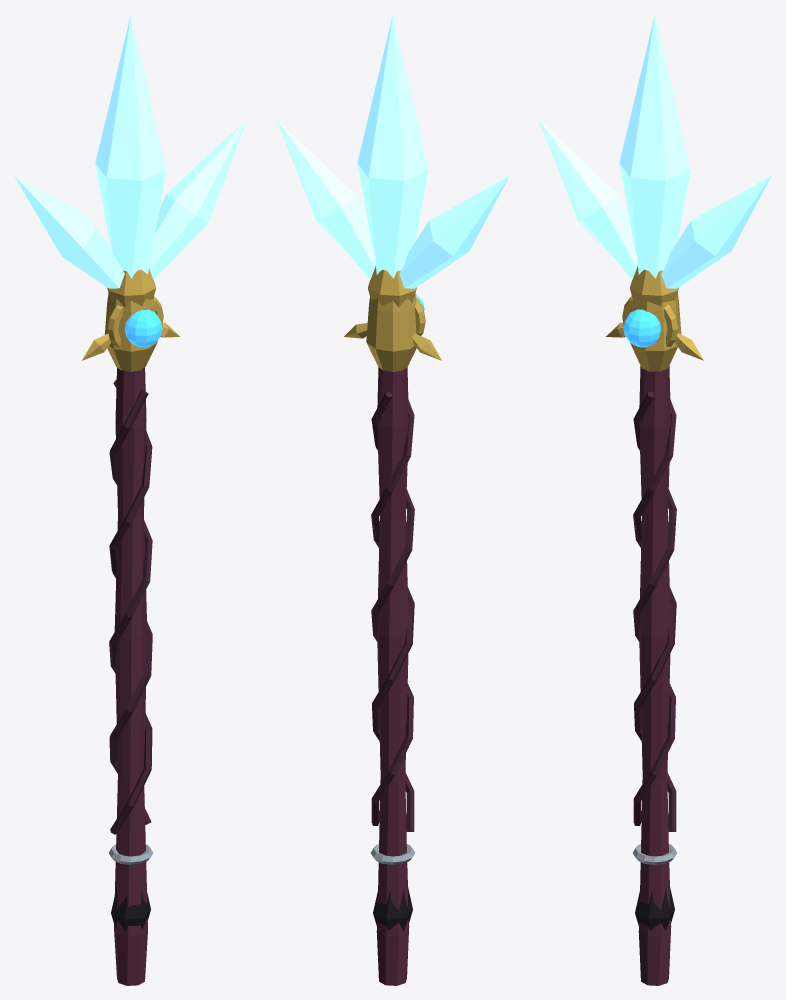
File: staff_royalcrystal.glb
3 views of the same model, side by side, from view 1: azimuth 30°, elevation 25°; view 2: azimuth 150°, elevation 25°; view 3: azimuth 330°, elevation 25° (orthographic).
Visible parts, largest first — view 1: Rc_Shaft, Rc_Crystal0, Rc_Crystal1, Rc_Crystal2, Rc_Vine1, Rc_Vine0, Rc_Neck, Rc_Seat, Rc_Gem, Rc_Tip, Rc_Collar; view 2: Rc_Shaft, Rc_Crystal0, Rc_Crystal1, Rc_Crystal2, Rc_Neck, Rc_Vine1, Rc_Vine0, Rc_Seat, Rc_Tip; view 3: Rc_Shaft, Rc_Crystal0, Rc_Crystal2, Rc_Crystal1, Rc_Vine0, Rc_Vine1, Rc_Neck, Rc_Seat, Rc_Gem, Rc_Tip, Rc_Collar.
Boxes of the visible parts, <box> form: Rc_Shaft: <box>114,367,147,985</box>; Rc_Crystal0: <box>95,15,166,278</box>; Rc_Crystal1: <box>149,119,247,279</box>; Rc_Crystal2: <box>14,176,124,288</box>; Rc_Vine1: <box>109,390,152,834</box>; Rc_Vine0: <box>109,379,152,824</box>; Rc_Neck: <box>105,293,157,371</box>; Rc_Seat: <box>107,269,155,307</box>; Rc_Gem: <box>124,309,162,347</box>; Rc_Tip: <box>111,887,150,931</box>; Rc_Collar: <box>107,296,163,346</box>; Rc_Shaft: <box>376,367,409,985</box>; Rc_Crystal0: <box>357,15,428,278</box>; Rc_Crystal1: <box>276,119,375,279</box>; Rc_Crystal2: <box>399,176,509,288</box>; Rc_Neck: <box>366,293,416,371</box>; Rc_Vine1: <box>371,399,414,831</box>; Rc_Vine0: <box>371,392,414,825</box>; Rc_Seat: <box>368,266,416,307</box>; Rc_Tip: <box>373,887,412,931</box>; Rc_Shaft: <box>638,365,671,985</box>; Rc_Crystal0: <box>619,15,690,278</box>; Rc_Crystal2: <box>538,119,637,279</box>; Rc_Crystal1: <box>661,176,771,288</box>; Rc_Vine0: <box>633,399,676,831</box>; Rc_Vine1: <box>633,392,676,825</box>; Rc_Neck: <box>630,292,681,371</box>; Rc_Seat: <box>630,266,678,305</box>; Rc_Gem: <box>623,309,661,347</box>; Rc_Tip: <box>635,887,674,931</box>; Rc_Collar: <box>622,296,678,346</box>.
Bounding box in the file's own units: 0.5772 × 2.28 × 0.1682.
